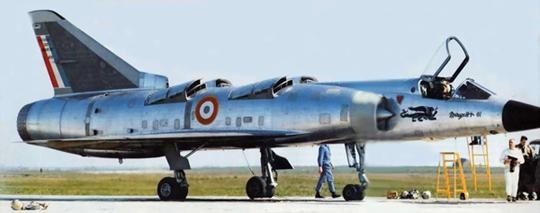airplane: (17, 10, 540, 151)
